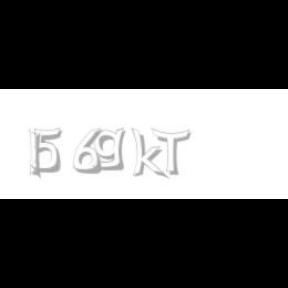5: (32, 128, 62, 174)
6: (74, 128, 102, 176)
I: (28, 128, 42, 180)
T: (151, 128, 191, 176)
g: (92, 128, 130, 171)
k: (131, 128, 169, 180)
